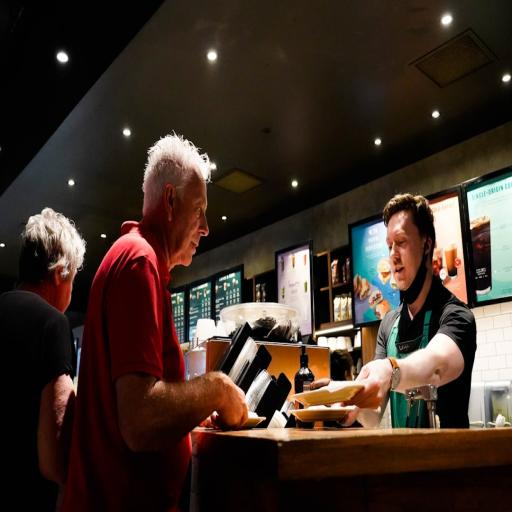face: (170, 176, 208, 266), (386, 210, 426, 291)
